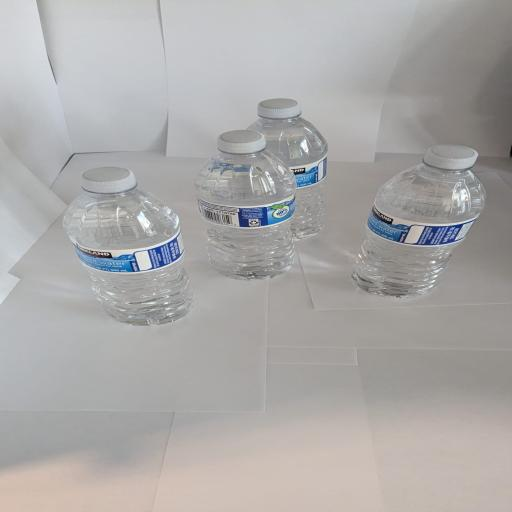waterbottle: (64, 168, 193, 325), (354, 146, 485, 297), (196, 131, 295, 279), (249, 99, 327, 238)
